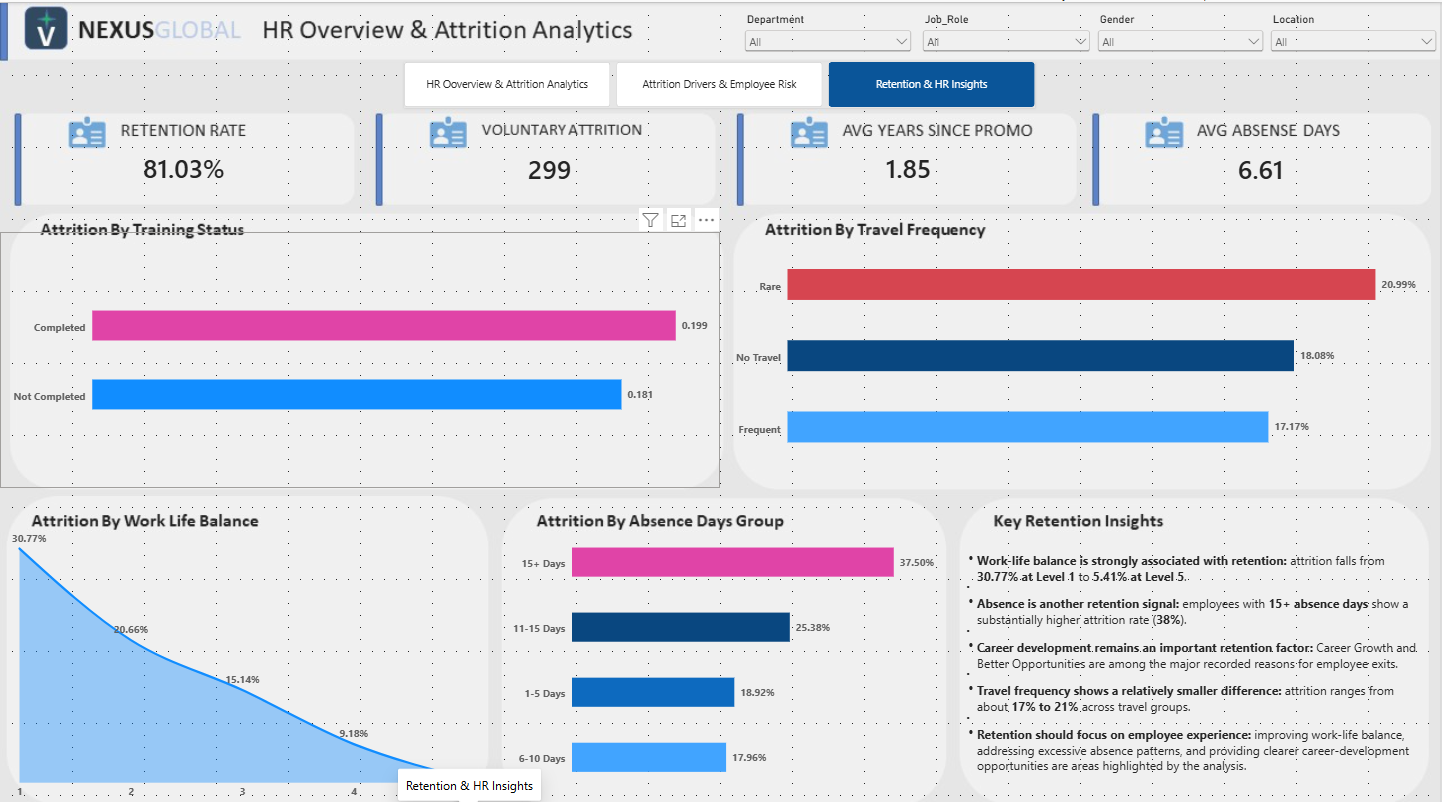

Layout of this report page (visuals, bound fields, positions):
{"tool":"powerbi","page":{"name":"Retention & HR Insights","canvas":[1920,1080],"ordinal":2},"visuals":[{"type":"card","fields":{"Values":["Attendance_Attrition.Rentention Rate"]},"box":[18.9,179.8,453.2,81.8],"z":0},{"type":"card","fields":{"Values":["Attendance_Attrition.Voluntary Attrition"]},"box":[505.7,181.2,454.7,81.3],"z":1000},{"type":"card","fields":{"Values":["Employment_History.Avg Years Since Promotion"]},"box":[988.4,175.8,446.7,90.7],"z":2000},{"type":"card","fields":{"Values":["Attendance_Attrition.Avg Absence Days"]},"box":[1457.6,179.8,446.7,84],"z":3000},{"type":"clusteredBarChart","fields":{"Category":["Attendance_Attrition.Absense Days Group"],"Y":["Attendance_Attrition.ATTRITION RATE"]},"box":[666.6,669.3,594.9,411],"z":4000},{"type":"areaChart","fields":{"Category":["Performance.Work_Life_Balance"],"Y":["Attendance_Attrition.ATTRITION RATE"]},"box":[0,653.1,646.3,427.3],"z":5000},{"type":"clusteredBarChart","fields":{"Category":["Attendance_Attrition.Travel_Frequency"],"Y":["Attendance_Attrition.ATTRITION RATE"]},"box":[964.1,294.8,939.9,351.5],"z":6000},{"type":"pageNavigator","box":[538.1,78.4,842.4,60.8],"z":7000},{"type":"slicer","fields":{"Values":["Employees.Department"]},"box":[988,13.3,232,61.3],"z":8000},{"type":"slicer","fields":{"Values":["Employees.Job_Role"]},"box":[1225.3,13.3,233.3,61.3],"z":9000},{"type":"slicer","fields":{"Values":["Employees.Gender"]},"box":[1458.7,13.3,230.7,61.3],"z":10000},{"type":"slicer","fields":{"Values":["Employees.Location"]},"box":[1689.3,13.3,230.7,61.3],"z":11000},{"type":"textbox","box":[1278.7,728,625.3,341.3],"z":12000},{"type":"clusteredBarChart","fields":{"Category":["Performance.Training  Complete Status"],"Y":["Attendance_Attrition.ATTRITION RATE"]},"box":[0,305.3,960,341.3],"z":13000}]}

Visuals, with their boxes in screenshot pixels (x1, y1, x2, y2), scaled from the page's 1920x1080 canvas onto the 1442x802 screenshot:
card - Attendance_Attrition.Rentention Rate: 14,134,355,194
card - Attendance_Attrition.Voluntary Attrition: 380,135,721,195
card - Employment_History.Avg Years Since Promotion: 742,131,1078,198
card - Attendance_Attrition.Avg Absence Days: 1095,134,1430,196
clusteredBarChart - Attendance_Attrition.Absense Days Group x Attendance_Attrition.ATTRITION RATE: 501,497,947,801
areaChart - Performance.Work_Life_Balance x Attendance_Attrition.ATTRITION RATE: 0,485,485,801
clusteredBarChart - Attendance_Attrition.Travel_Frequency x Attendance_Attrition.ATTRITION RATE: 724,219,1430,480
pageNavigator: 404,58,1037,103
slicer - Employees.Department: 742,10,916,55
slicer - Employees.Job_Role: 920,10,1095,55
slicer - Employees.Gender: 1096,10,1269,55
slicer - Employees.Location: 1269,10,1441,55
textbox: 960,541,1430,794
clusteredBarChart - Performance.Training  Complete Status x Attendance_Attrition.ATTRITION RATE: 0,227,721,480
